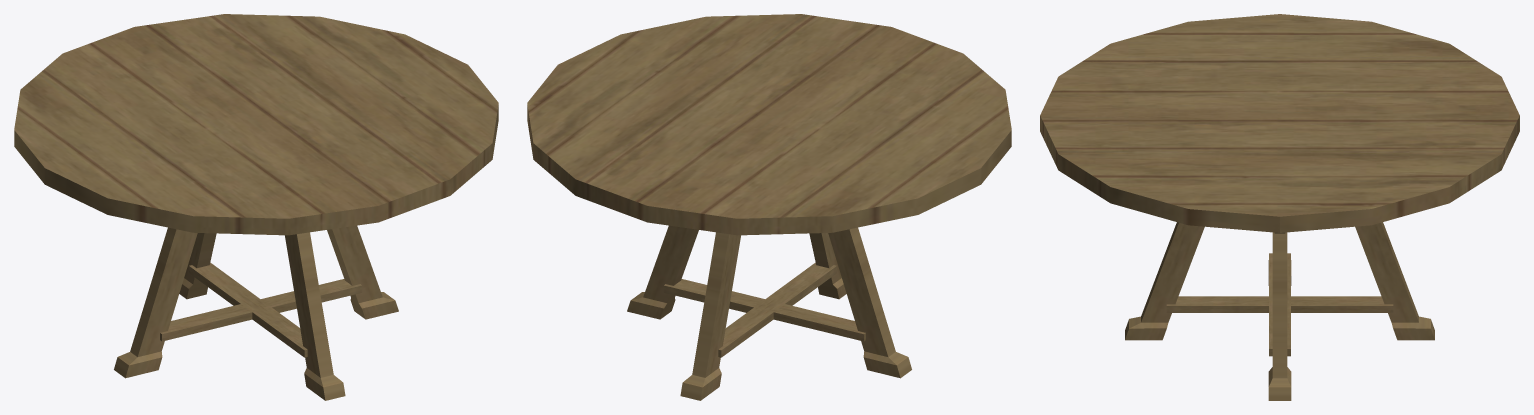
The model's file is table02.glb.
3 renders of one model, left to right at view 1: azimuth 30°, elevation 25°; view 2: azimuth 150°, elevation 25°; view 3: azimuth 270°, elevation 25°, orthographic.
Visible parts, largest first — view 1: table02; view 2: table02; view 3: table02.
Boxes of the visible parts, <box> form: table02: <box>14,14,498,400</box>; table02: <box>527,14,1011,400</box>; table02: <box>1040,14,1519,400</box>.
Size of the model in its own units: 1.6 by 0.81 by 1.6.
1 material, 1 textured.
